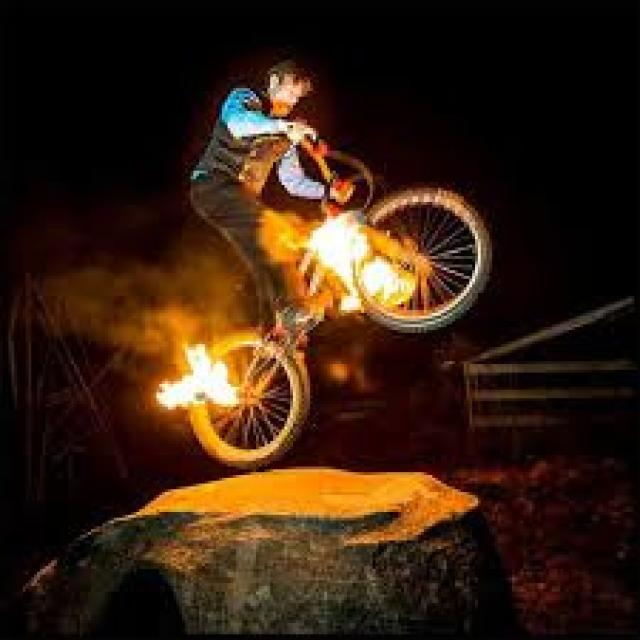fire: (309, 213, 416, 311), (156, 374, 240, 410), (184, 343, 227, 375)
